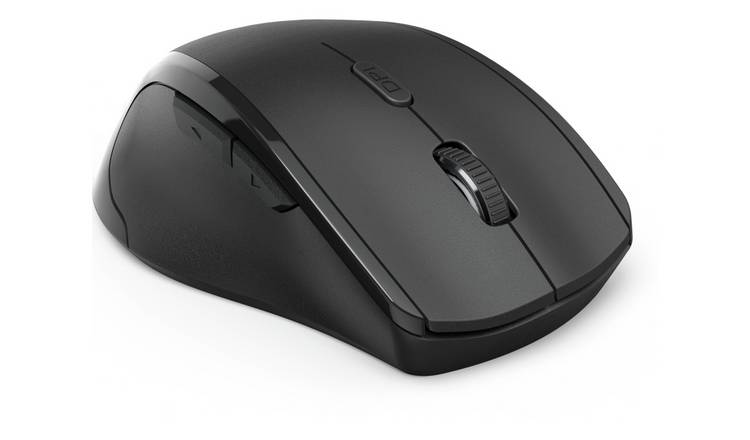mouse: (72, 23, 642, 379)
